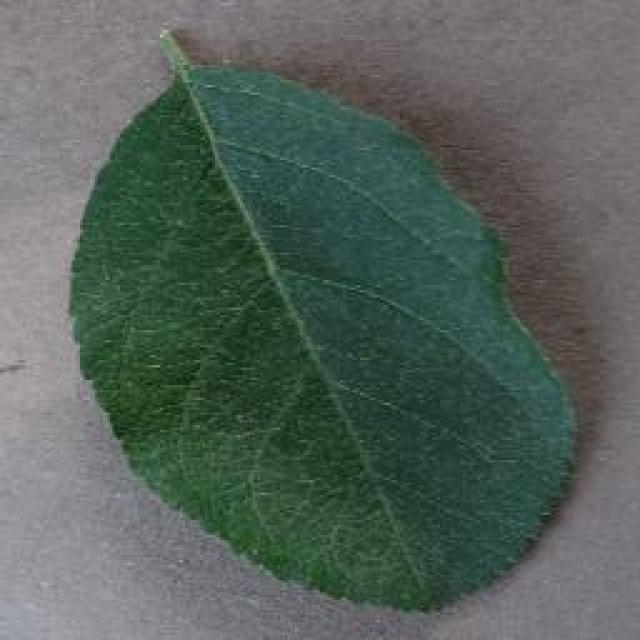apple healthy: (65, 25, 583, 615)
